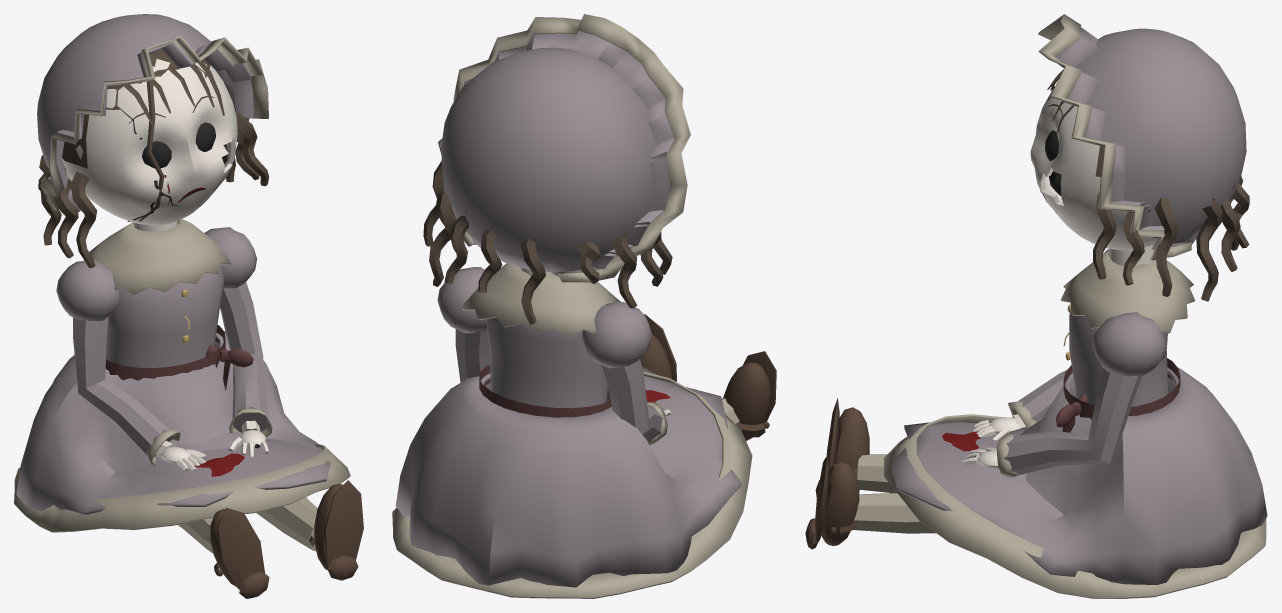
The model's file is doll.glb.
3 renders of one model, left to right at view 1: azimuth 30°, elevation 25°; view 2: azimuth 150°, elevation 25°; view 3: azimuth 270°, elevation 25°, orthographic. The views are drawn at different scales.
Visible parts, largest first — view 1: doll_static, MOV_doll_head; view 2: doll_static, MOV_doll_head; view 3: doll_static, MOV_doll_head.
Part boxes in pixels (left/top/right/bottom): doll_static: left=14, top=219, right=363, bottom=598; MOV_doll_head: left=37, top=14, right=269, bottom=268; doll_static: left=392, top=263, right=776, bottom=598; MOV_doll_head: left=423, top=14, right=690, bottom=324; doll_static: left=805, top=245, right=1267, bottom=598; MOV_doll_head: left=1030, top=14, right=1249, bottom=301.
Size of the model in its own units: 0.2663 by 0.4287 by 0.3602.
